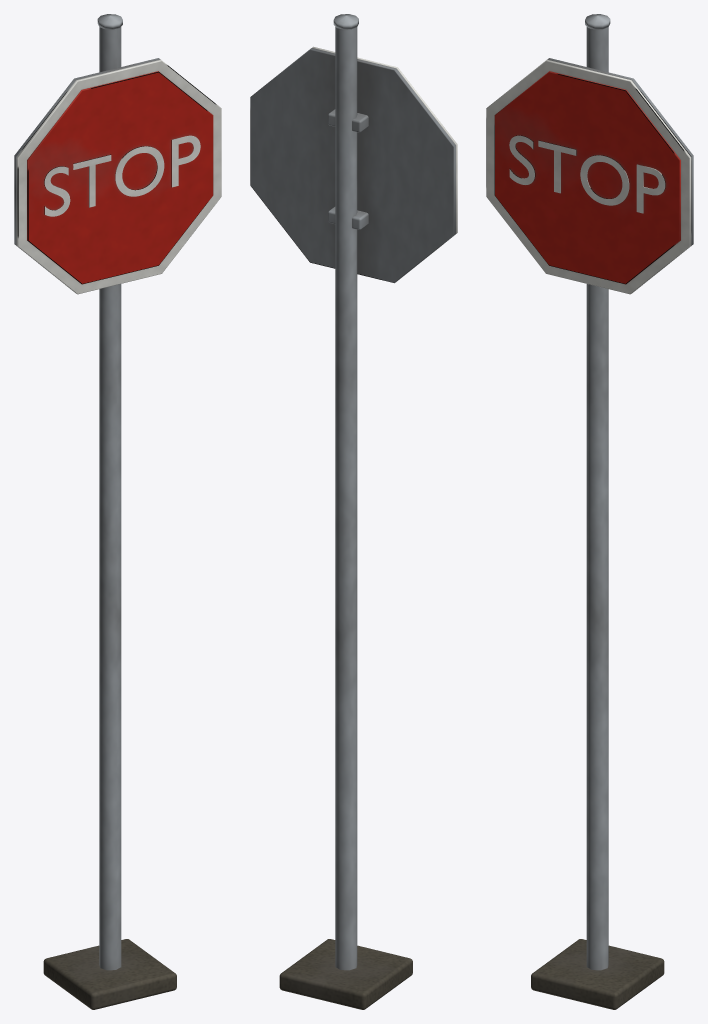
The model's file is znak_stop.glb.
3 renders of one model, left to right at view 1: azimuth 30°, elevation 25°; view 2: azimuth 150°, elevation 25°; view 3: azimuth 330°, elevation 25°, orthographic.
Visible parts, largest first — view 1: Tarcza, Slupek; view 2: Slupek, Tarcza; view 3: Tarcza, Slupek.
Boxes of the visible parts, x1,y1,x2,y2 form: Tarcza: (16, 59, 221, 294); Slupek: (14, 14, 176, 1009); Slupek: (250, 14, 455, 1009); Tarcza: (312, 46, 457, 275); Tarcza: (486, 59, 691, 294); Slupek: (531, 14, 693, 1009).
Bounding box in the file's own units: 0.6138 × 2.78 × 0.26.
Materials: 2 (2 with a texture image).
